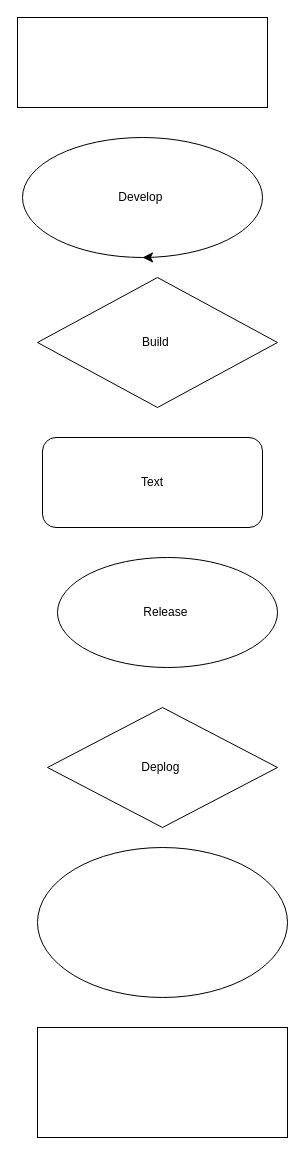
Some shapes in this 305 by 1155 pixel diagram are drawn without their labels. The centre of each missing label's shape, as x and y in pixels:
"Monitor" belongs at point (162, 1082).
"Operate" belongs at point (162, 922).
"Plan" belongs at point (142, 62).
